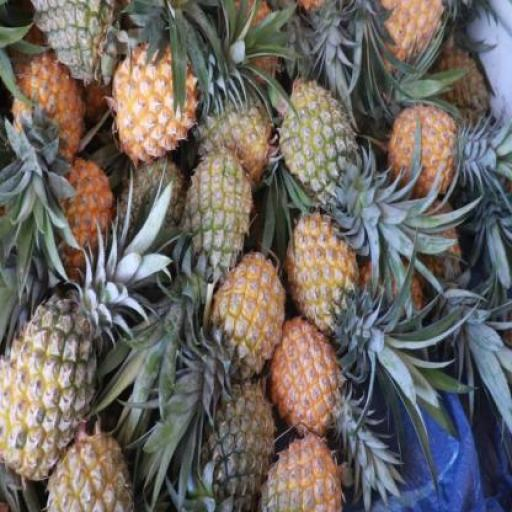------------------------------: (0, 304, 98, 480), (281, 76, 358, 204), (212, 250, 286, 381), (182, 151, 251, 285), (271, 318, 342, 444), (196, 93, 274, 181), (262, 434, 347, 511)
Pineapple - v8 v1: (114, 40, 200, 164), (286, 212, 360, 330), (12, 54, 79, 168), (390, 107, 457, 206)
